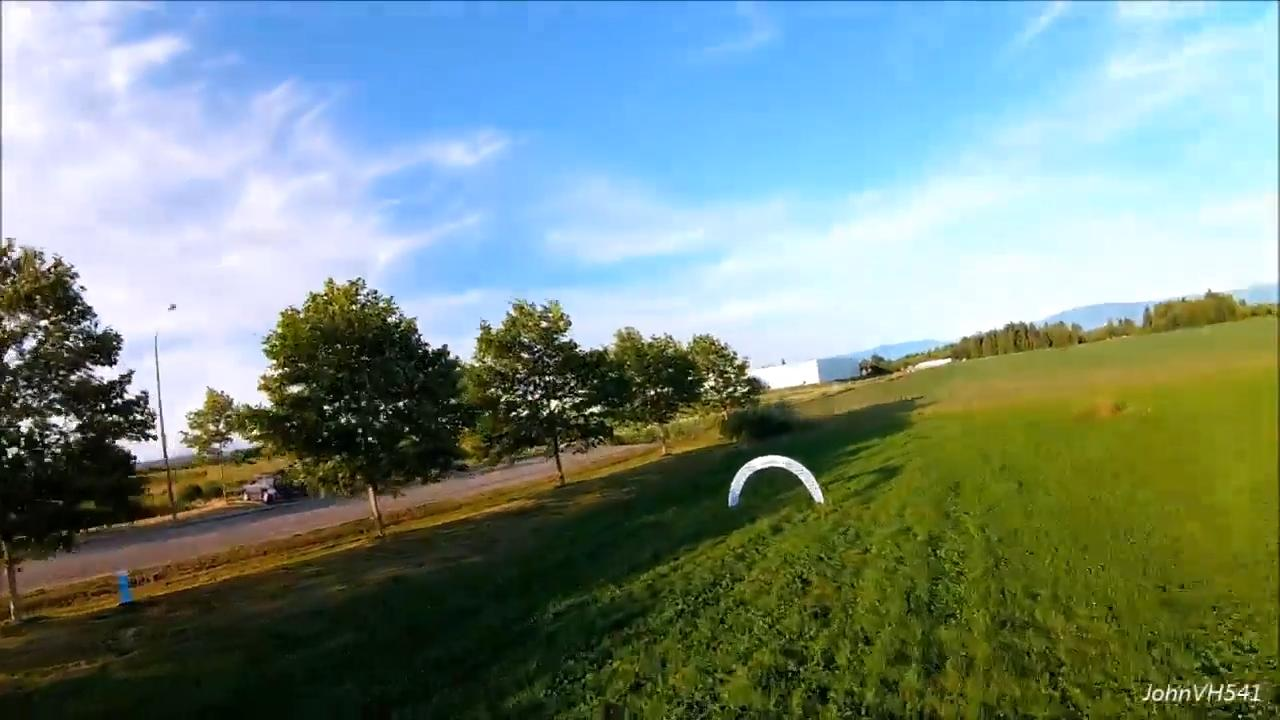gate: (728, 456, 823, 508)
